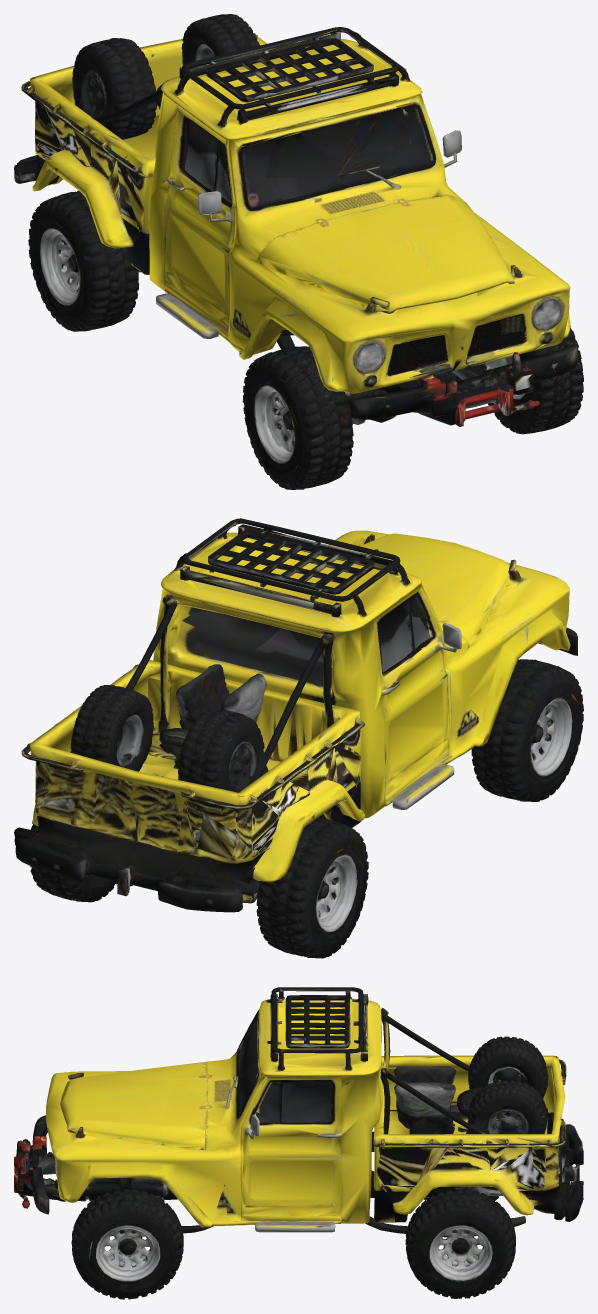
The model's file is VEH_M_YellowTrailRig.glb.
3 views of the same model, one above another, from view 1: azimuth 30°, elevation 25°; view 2: azimuth 150°, elevation 25°; view 3: azimuth 270°, elevation 25° (orthographic). The views are drawn at different scales.
Parts seen in each view (by area): view 1: VEH_M_YellowTrailRig; view 2: VEH_M_YellowTrailRig; view 3: VEH_M_YellowTrailRig.
Boxes of the visible parts, left/top/right/bottom form: VEH_M_YellowTrailRig: left=14, top=14, right=583, bottom=489; VEH_M_YellowTrailRig: left=14, top=518, right=583, bottom=958; VEH_M_YellowTrailRig: left=14, top=987, right=583, bottom=1299.
Bounding box in the file's own units: 2.08 × 2.1 × 4.7.
1 material, 1 textured.
